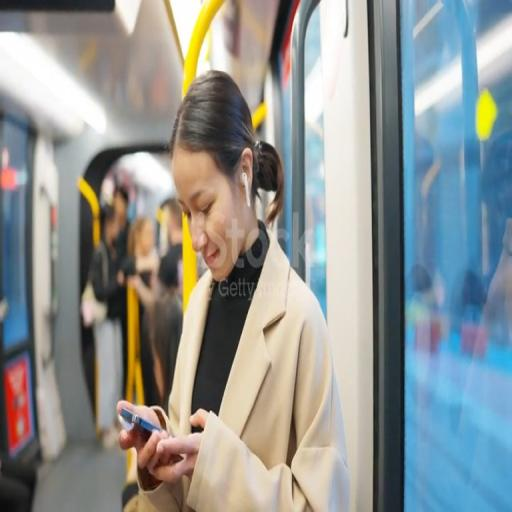earphone: (242, 166, 254, 210)
